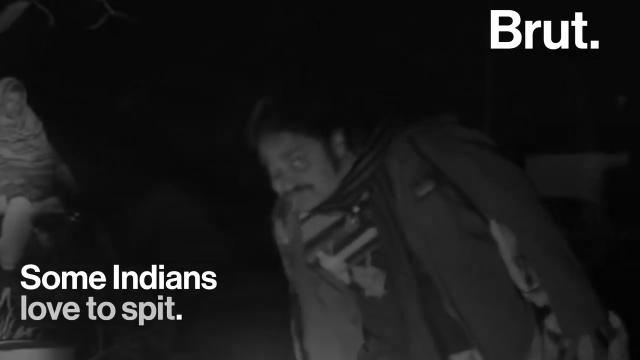spit: (264, 152, 332, 290)
